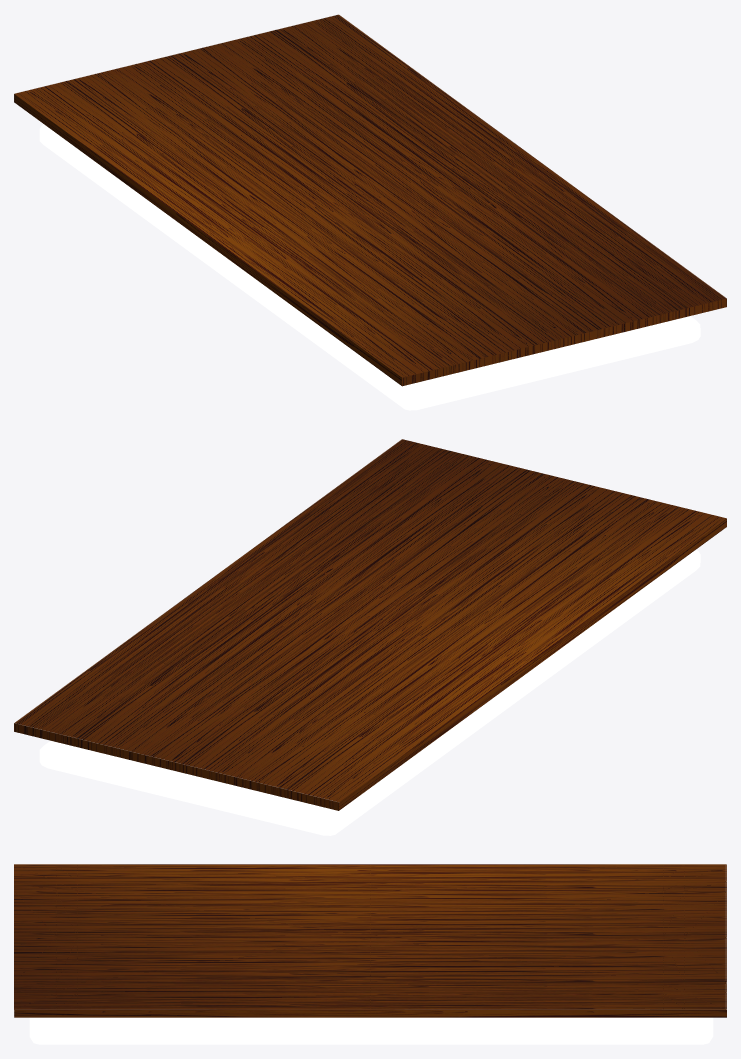
File: uploads_files_3155043_ceiling_lamp.glb
3 renders of one model, top to bottom at view 1: azimuth 30°, elevation 25°; view 2: azimuth 150°, elevation 25°; view 3: azimuth 270°, elevation 25°, orthographic. The views are drawn at different scales.
Visible parts, largest first — view 1: Base, Lamp; view 2: Base, Lamp; view 3: Base, Lamp.
Boxes of the visible parts, x1,y1,x2,y2 form: Base: [14, 14, 726, 386]; Lamp: [39, 124, 700, 410]; Base: [14, 439, 726, 810]; Lamp: [39, 550, 700, 835]; Base: [14, 864, 726, 1017]; Lamp: [29, 1017, 713, 1044].
Bounding box in the file's own units: 7.97 × 1.12 × 16.5.
2 materials, 1 textured.
